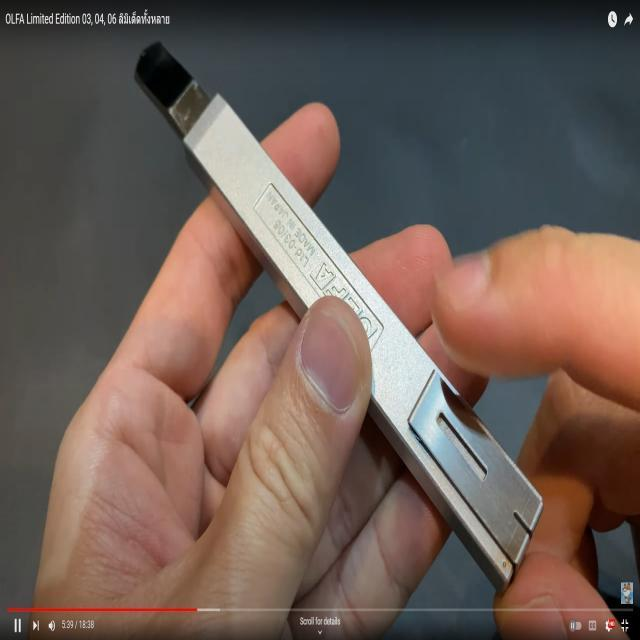cutter: (22, 27, 639, 639)
